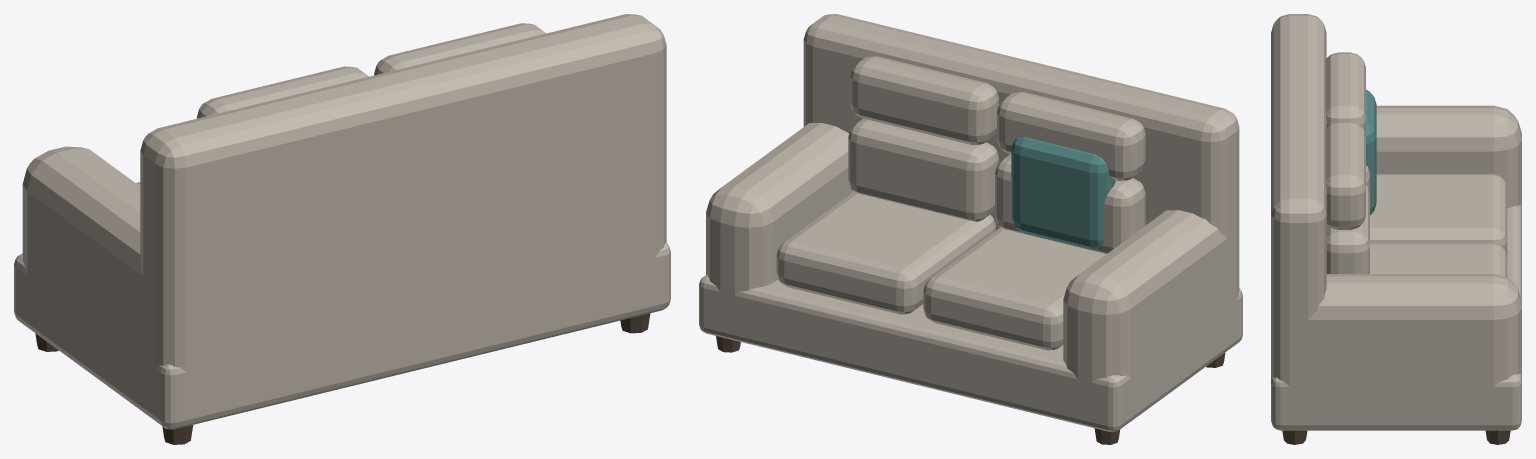
File: sandton-sofa-2.glb
The picture shows the model from 3 angles, left to right: view 1: azimuth 30°, elevation 25°; view 2: azimuth 150°, elevation 25°; view 3: azimuth 270°, elevation 25°; orthographic projection. The views are drawn at different scales.
Parts seen in each view (by area): view 1: sofa.back.001, sofa.frame.001, sofa.arm_left.001, sofa.back_upper0.001, sofa.back_upper1.001; view 2: sofa.frame.001, sofa.back.001, sofa.arm_left.001, sofa.seat1.001, sofa.arm_right.001, sofa.seat0.001, sofa.back_lower1.001, sofa.back_upper1.001, sofa.cushion0.001, sofa.back_upper0.001, sofa.back_lower0.001; view 3: sofa.arm_right.001, sofa.back.001, sofa.frame.001, sofa.arm_left.001, sofa.seat0.001, sofa.seat1.001, sofa.back_upper1.001, sofa.back_upper0.001, sofa.back_lower1.001, sofa.cushion0.001, sofa.foot.006, sofa.foot.007.
Boxes of the visible parts, x1,y1,x2,y2 form: sofa.back.001: (140,14,666,405); sofa.frame.001: (14,243,670,429); sofa.arm_left.001: (22,146,143,385); sofa.back_upper0.001: (196,66,368,118); sofa.back_upper1.001: (374,23,545,75); sofa.frame.001: (699,275,1242,432); sofa.back.001: (803,14,1239,338); sofa.arm_left.001: (1063,210,1231,400); sofa.seat1.001: (776,192,995,314); sofa.arm_right.001: (706,123,853,317); sofa.seat0.001: (923,227,1106,350); sofa.back_lower1.001: (848,118,998,221); sofa.back_upper1.001: (850,56,998,144); sofa.cushion0.001: (1011,137,1115,250); sofa.back_upper0.001: (997,92,1145,180); sofa.back_lower0.001: (995,154,1145,253); sofa.arm_right.001: (1308,274,1521,386); sofa.back.001: (1271,14,1326,416); sofa.frame.001: (1271,205,1521,430); sofa.arm_left.001: (1376,105,1521,208); sofa.seat0.001: (1370,174,1507,256); sofa.seat1.001: (1370,243,1507,277); sofa.back_upper1.001: (1325,121,1365,229); sofa.back_upper0.001: (1325,52,1365,135); sofa.back_lower1.001: (1326,185,1369,273); sofa.cushion0.001: (1366,90,1376,214); sofa.foot.006: (1282,430,1307,444); sofa.foot.007: (1485,430,1510,444).
Size of the model in its own units: 1.78 by 1.02 by 0.95.
